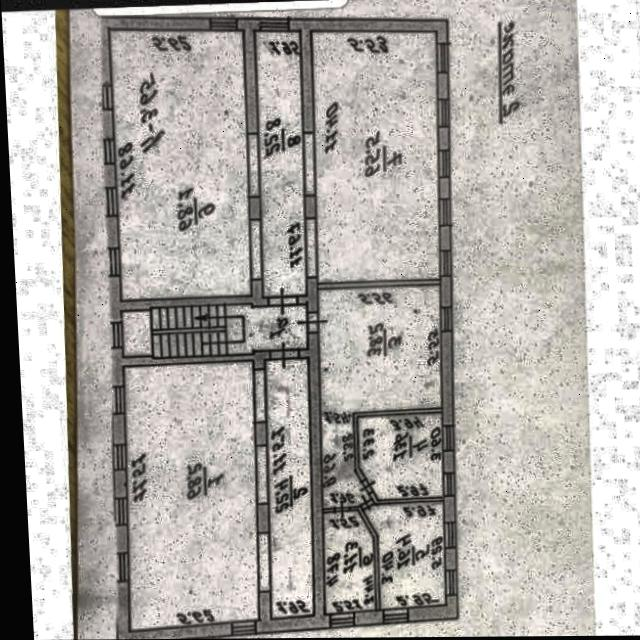room: (107, 21, 252, 298), (125, 358, 261, 629), (310, 26, 441, 282), (317, 283, 445, 507), (253, 27, 307, 295), (267, 357, 316, 614), (122, 299, 309, 356), (365, 498, 453, 609), (359, 411, 446, 499), (324, 508, 377, 612)
